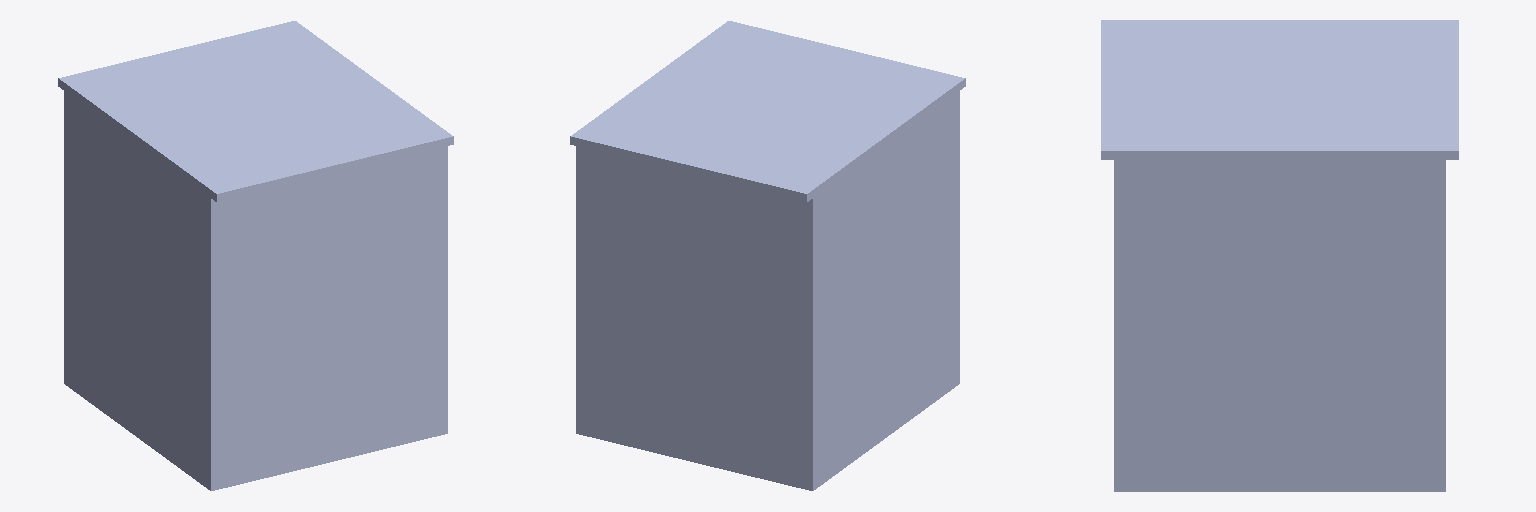
robot.urdf — Drawer_Grey:
<?xml version="1.0" encoding="utf-8"?>
<!-- This URDF was automatically created by SolidWorks to URDF Exporter! Originally created by [author] ([email redacted]) 
     Commit Version: 1.5.1-0-g916b5db  Build Version: 1.5.7152.31018
     For more information, please see http://wiki.ros.org/sw_urdf_exporter -->
<robot
  name="Drawer_Grey">
  <link
    name="Drawer_Grey">
    <inertial>
      <origin
        xyz="3.0326E-17 -0.00881729999999998 0.36545"
        rpy="0 0 0" />
      <mass
        value="61.33" />
      <inertia
        ixx="23.603"
        ixy="-4.1081E-16"
        ixz="7.0945E-16"
        iyy="21.701"
        iyz="0.0267039999999999"
        izz="19.382" />
    </inertial>
    <visual>
      <origin
        xyz="0 0 0"
        rpy="1.5707963267949 0 0" />
      <geometry>
        <mesh
          filename="package://Drawer_Grey/meshes/Drawer_Grey.STL" />
      </geometry>
      <material
        name="">
        <color
          rgba="0.79216 0.81961 0.93333 1" />
        <texture
          filename="package://Drawer_Grey/textures/" />
      </material>
    </visual>
    <collision>
      <origin
        xyz="0 0 0"
        rpy="1.5707963267949 0 0" />
      <geometry>
        <mesh
          filename="package://Drawer_Grey/meshes/Drawer_Grey.STL" />
      </geometry>
    </collision>
  </link>
</robot>

--- Render facts (derived) ---
The picture shows the robot from 3 angles, left to right: view 1: azimuth 30°, elevation 25°; view 2: azimuth 150°, elevation 25°; view 3: azimuth 270°, elevation 25°; orthographic projection.
Robot: Drawer_Grey — 1 links, 0 joints (none); root link Drawer_Grey; default pose: every joint at zero.
Visible links, largest first — view 1: Drawer_Grey; view 2: Drawer_Grey; view 3: Drawer_Grey.
Boxes of the visible links, x1,y1,x2,y2 form: Drawer_Grey: (58, 21, 453, 490); Drawer_Grey: (570, 21, 965, 490); Drawer_Grey: (1101, 20, 1458, 491).
Bounding box of the posed robot: 0.6 × 0.695 × 0.73 m (x, y, z).
1 mesh visuals loaded from 1 distinct referenced files (1 binary STL).